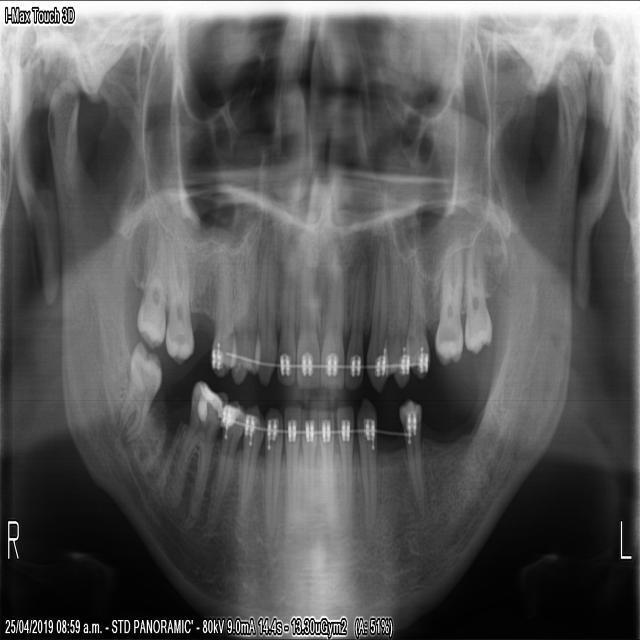LCD: (353, 390, 379, 547)
LCU: (363, 241, 389, 402)
LID: (332, 395, 353, 533), (315, 407, 338, 531)
LIU: (317, 241, 347, 396), (341, 247, 369, 393)
LMU: (430, 230, 464, 368), (460, 236, 492, 361)
LPMD: (396, 393, 427, 519)
LPMU: (401, 230, 432, 382), (384, 235, 410, 391)
RCD: (261, 401, 283, 543)
RCU: (251, 229, 279, 390)
RID: (281, 402, 300, 543), (298, 402, 317, 524)
RIU: (292, 228, 319, 394), (273, 223, 298, 388)
RMD: (165, 367, 224, 524), (112, 334, 163, 445)
RMU: (132, 234, 168, 351), (163, 245, 195, 368)
RPMD: (201, 396, 244, 544), (230, 399, 265, 541)
RPMU: (227, 227, 260, 385), (208, 240, 238, 383)
